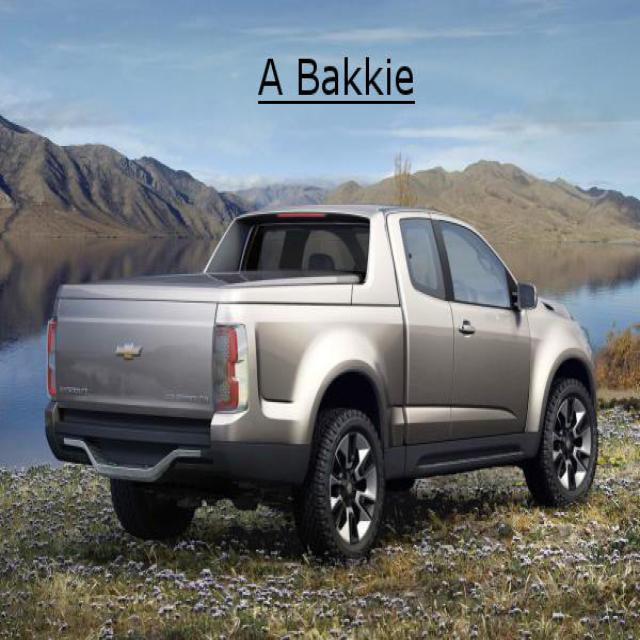Pickup Trucks: (45, 203, 600, 560)
